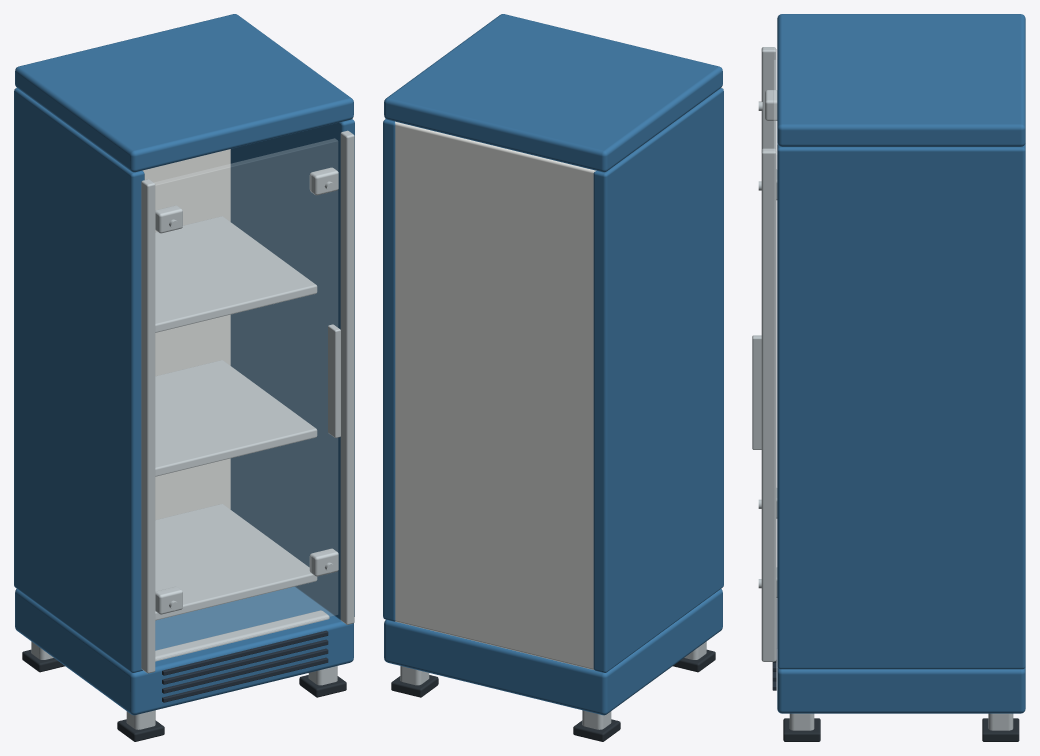
File: squash-club-and-racket-workshop-drinks-refrigerator-9bdc79d1__29767.glb
The picture shows the model from 3 angles, left to right: view 1: azimuth 30°, elevation 25°; view 2: azimuth 150°, elevation 25°; view 3: azimuth 270°, elevation 25°; orthographic projection. The views are drawn at different scales.
Parts seen in each view (by area): view 1: drinks-refrigerator; view 2: drinks-refrigerator; view 3: drinks-refrigerator.
Boxes of the visible parts, x1,y1,x2,y2 form: drinks-refrigerator: [14, 14, 354, 741]; drinks-refrigerator: [383, 14, 723, 741]; drinks-refrigerator: [752, 14, 1025, 741].
Bounding box in the file's own units: 0.6524 × 1.65 × 0.66.
